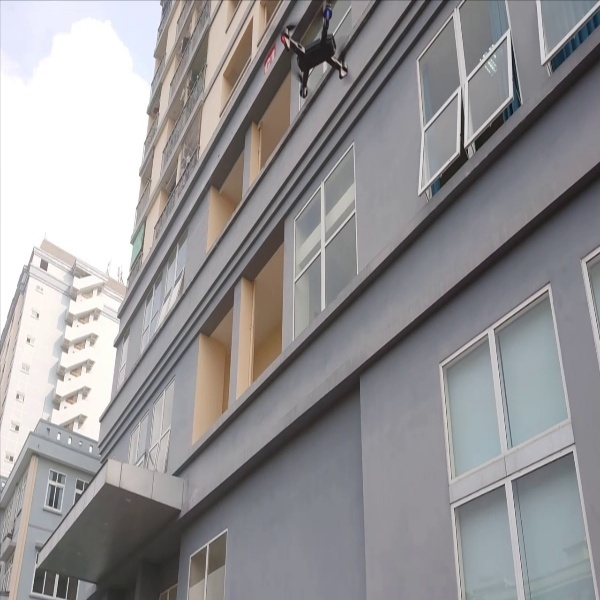drone: (265, 1, 361, 102)
